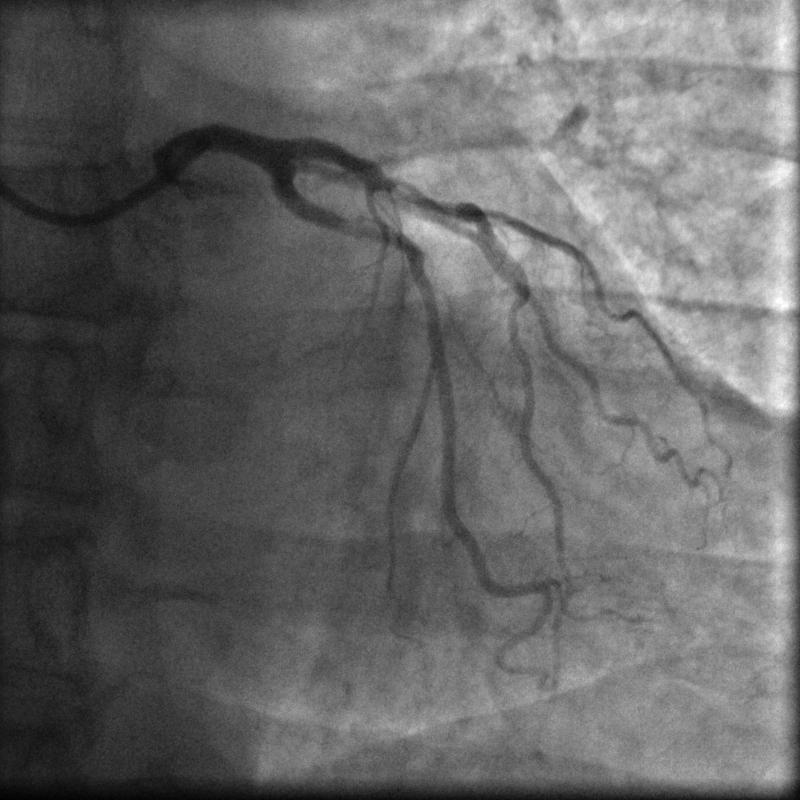Stenosis: (377, 178, 475, 221)
